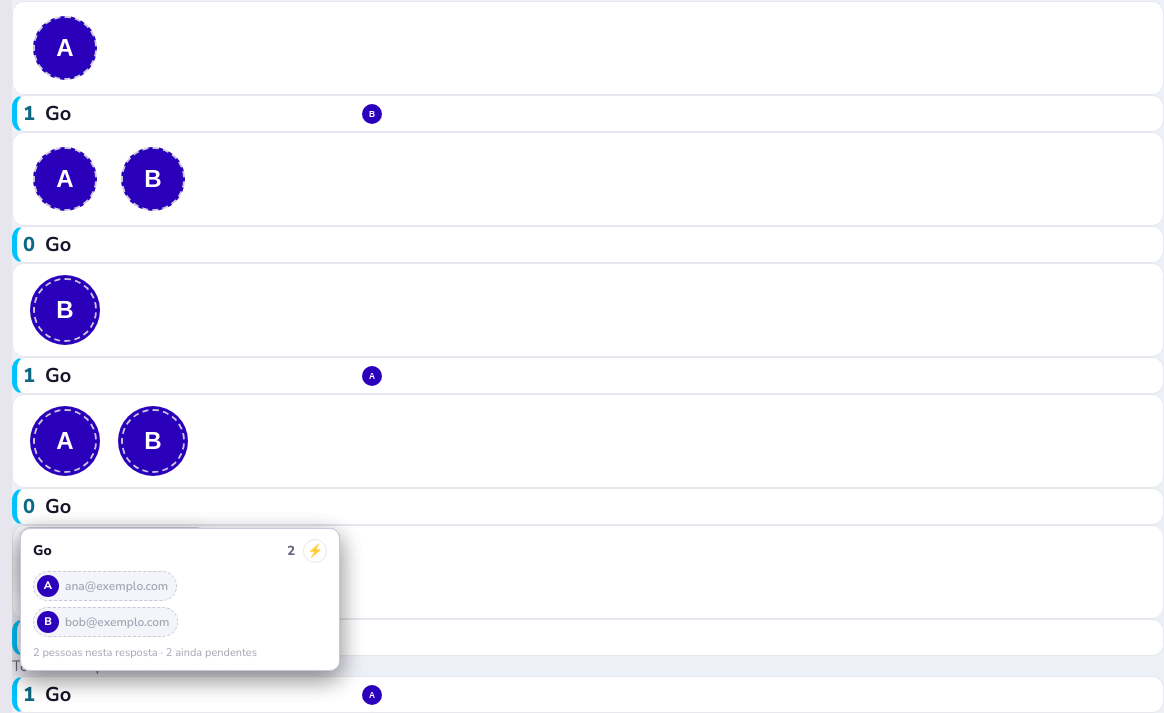
Test case: PresentationStage › o mini botão de revelar a resposta fica desabilitado sem pendentes nela
(page scrolled)
Hover over the 3rd text "Go": [47, 694] box [23,680,71,708]
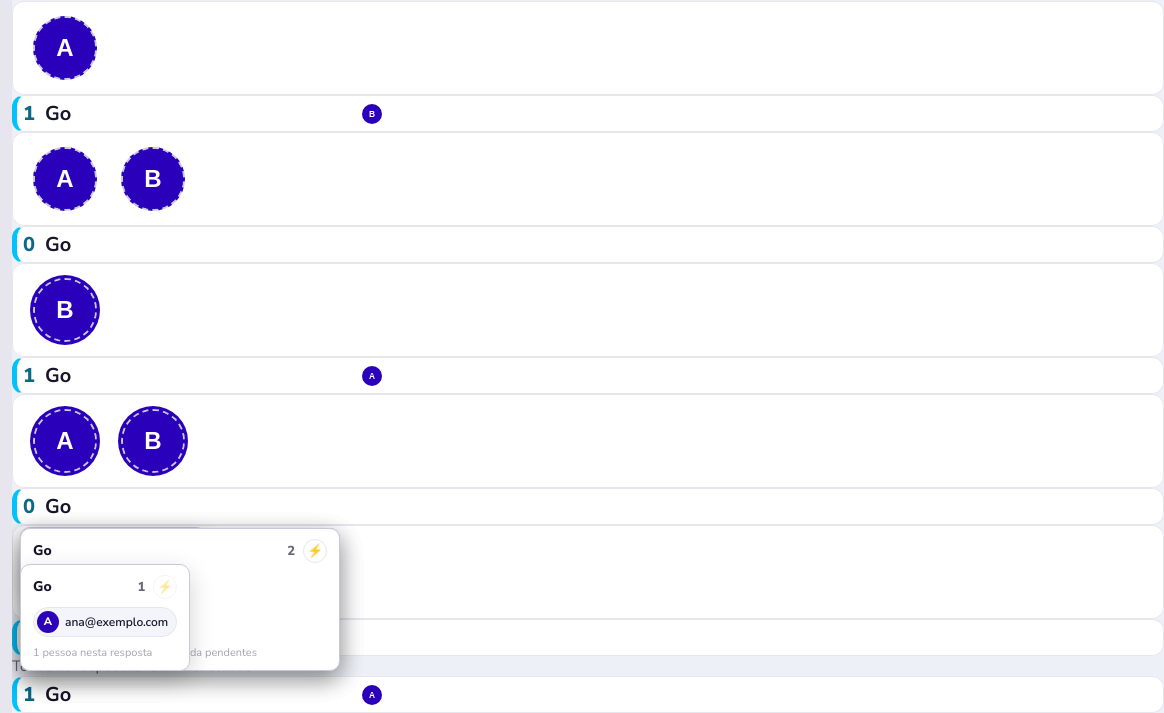
Expected: the button named "Revelar todos desta resposta" is disabled, [153,574,177,598]
